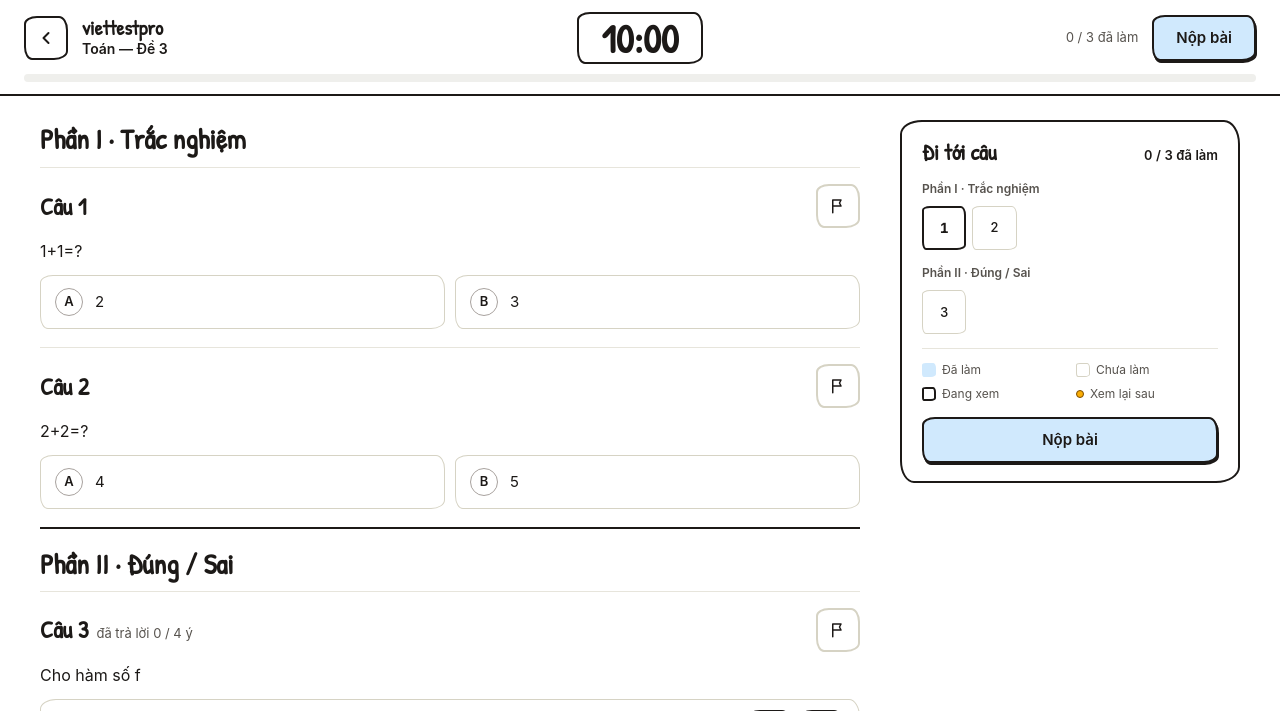
Test case: submit › a failed submit keeps the student on the paper with a clear message
This screenshot has width=1280, height=711.
Expected: the text "1+1=?" is shown, [40, 241, 82, 261]
Click the button "Nộp bài" in the row of "10:00" at (1204, 38), box [1152, 15, 1256, 61]
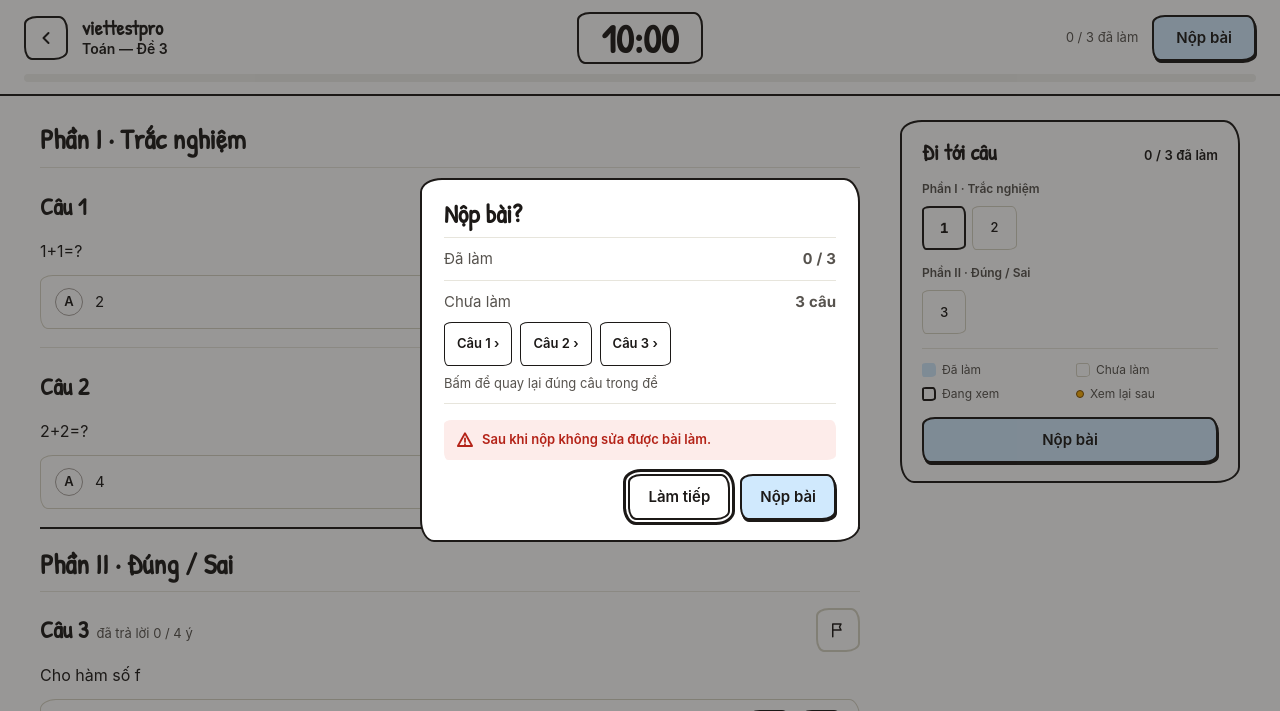
Click the button "Nộp bài" at (788, 497), box [740, 474, 836, 520]
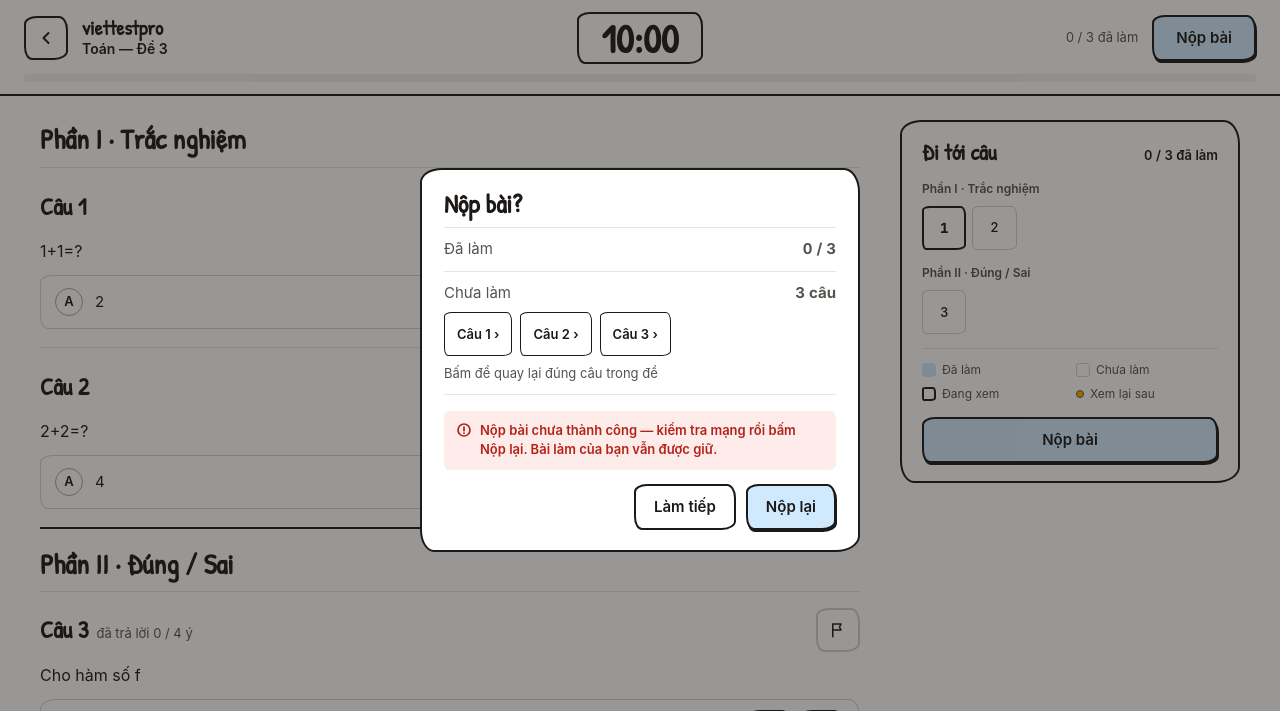
Expected: the text "Nộp bài chưa thành công" is shown, [480, 422, 796, 457]
Expected: the button "Nộp lại" is shown, [746, 484, 836, 530]
